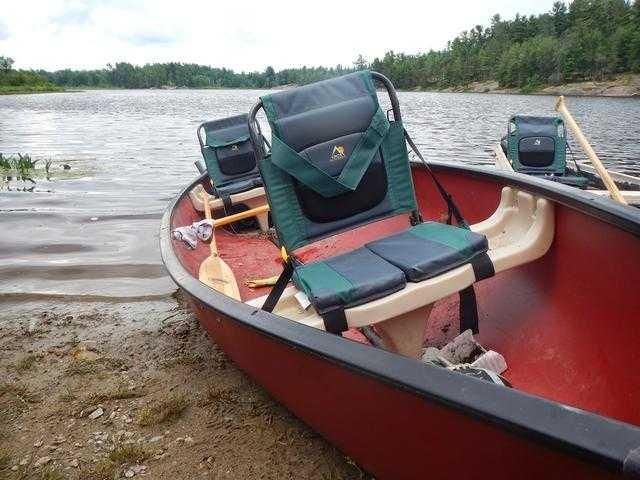kayak: (157, 69, 638, 478)
